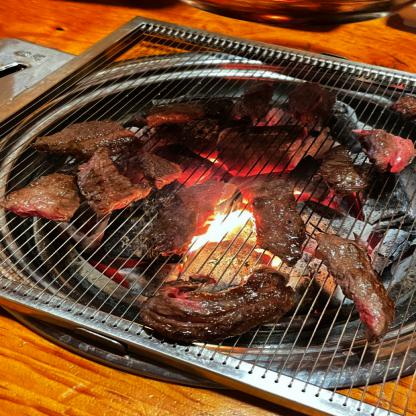Carne: (141, 276, 297, 336), (316, 237, 396, 342), (73, 150, 170, 207), (20, 118, 147, 156), (249, 182, 303, 266), (8, 165, 79, 221), (145, 204, 204, 266), (156, 92, 236, 131), (355, 126, 415, 172), (290, 84, 348, 126), (234, 81, 282, 126)
